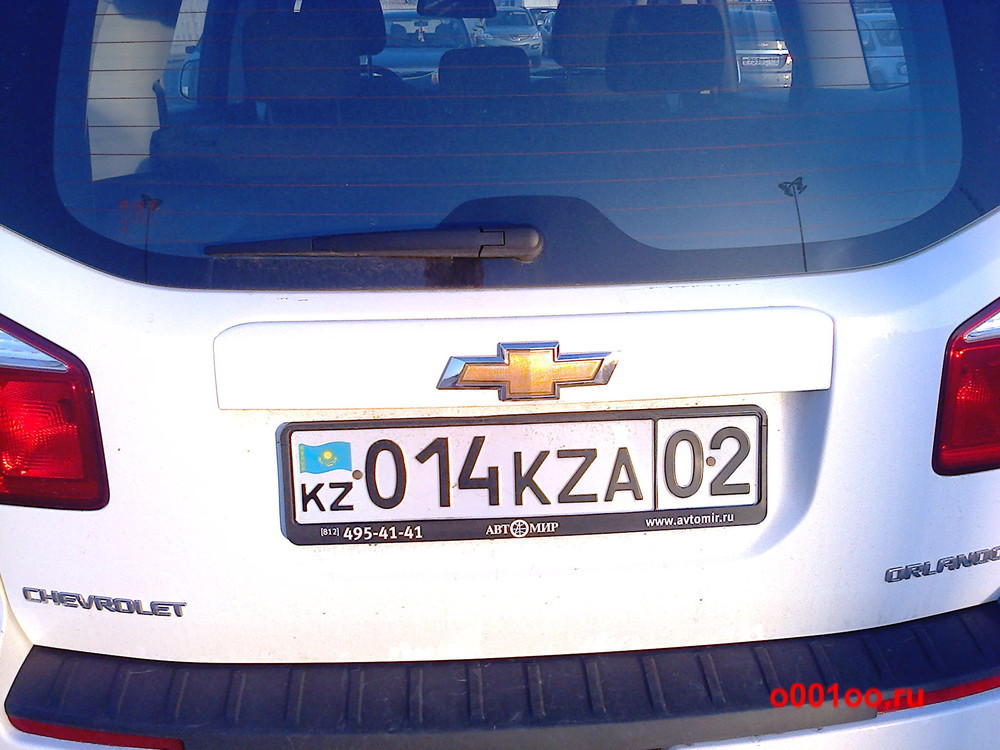license_plate: (280, 417, 772, 539)
